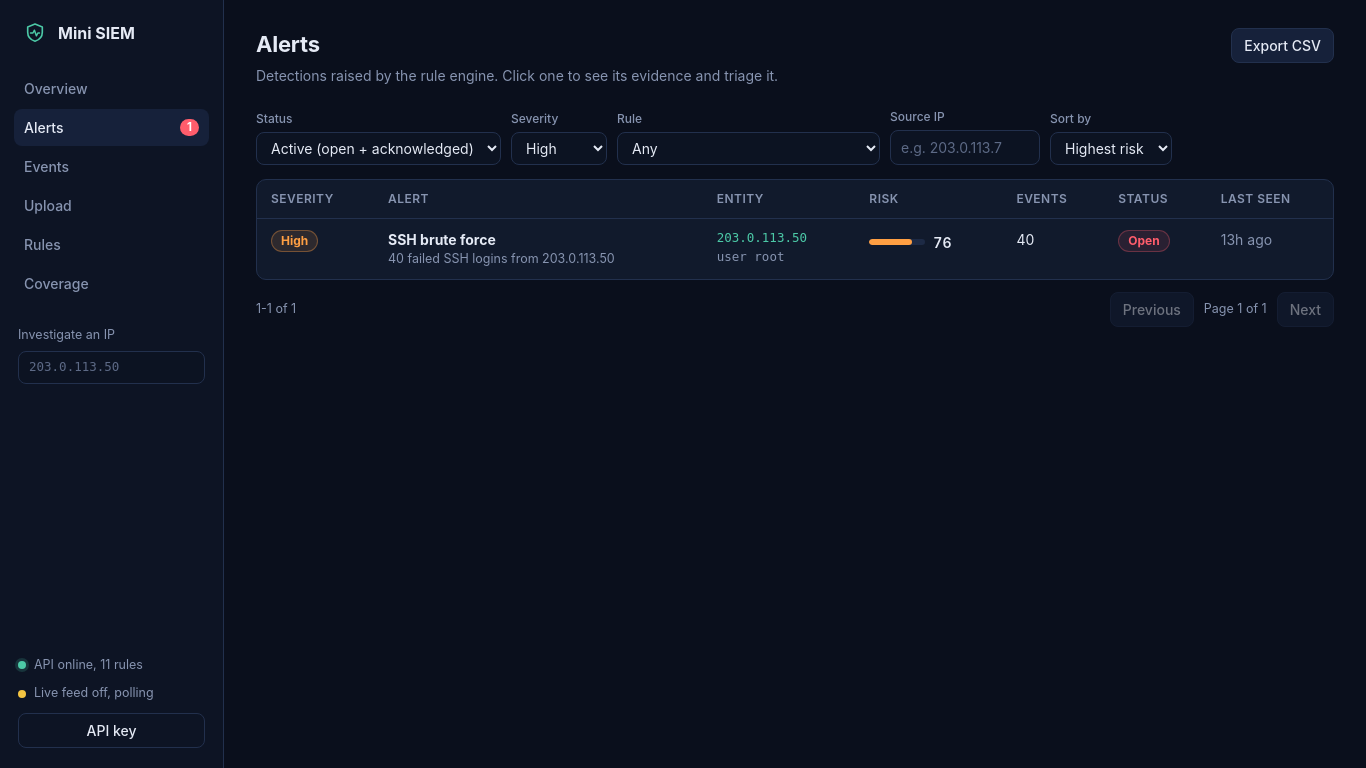
CSV export › downloads the alerts the page is filtered to
Click the button "Export CSV" at [1283, 46], box [1231, 28, 1334, 63]
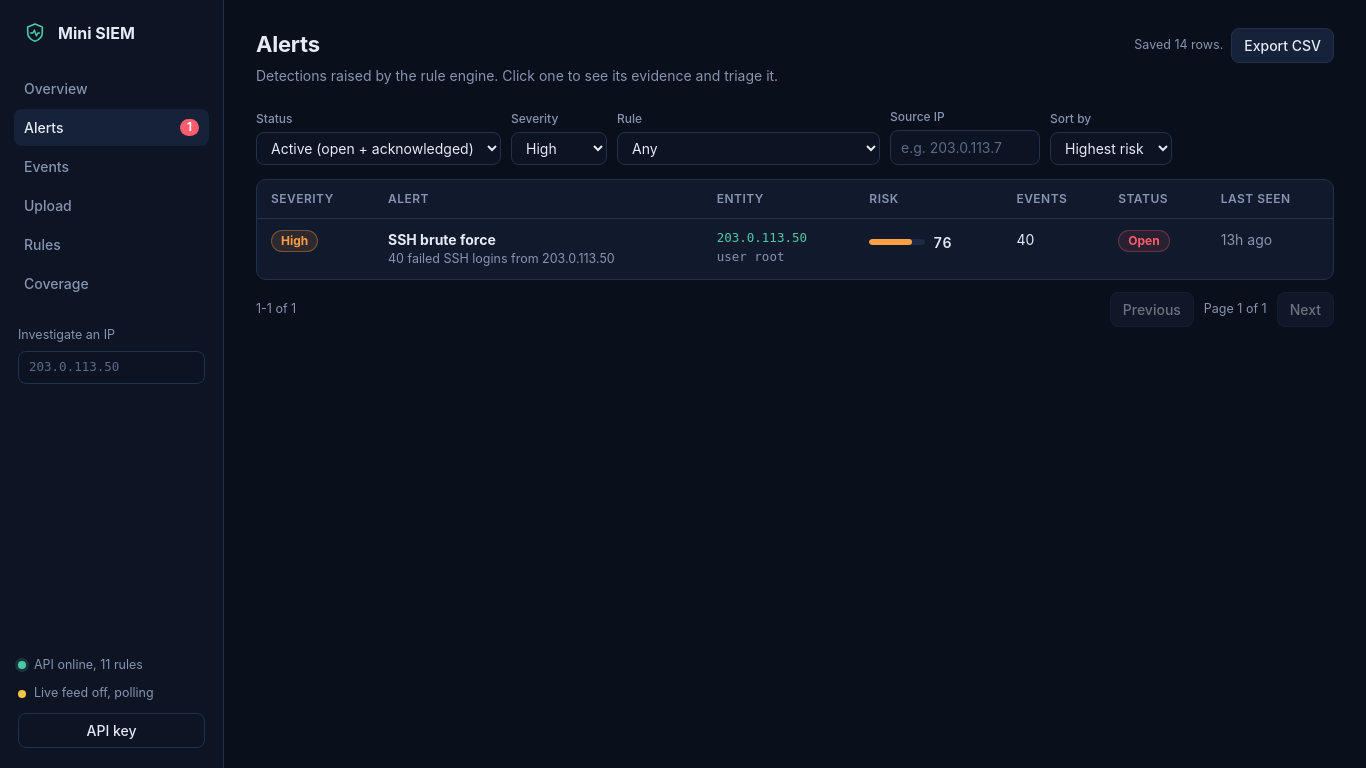
Now the text "Saved 14 rows." is shown, box [1134, 36, 1223, 55]
